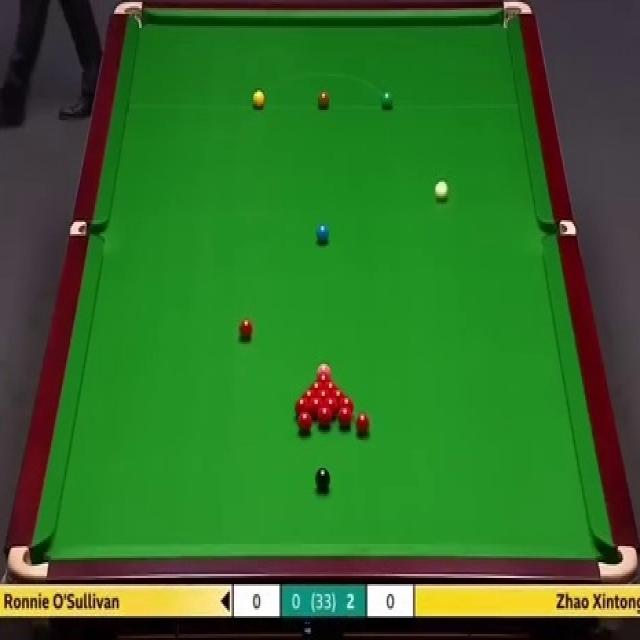pocket: (7, 542, 50, 582), (596, 542, 637, 582), (113, 0, 143, 31), (500, 0, 532, 29), (541, 218, 578, 237), (71, 217, 108, 235)
